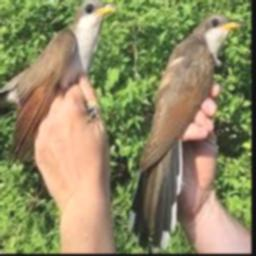Cuckoo: (131, 13, 240, 250), (0, 0, 116, 166)
